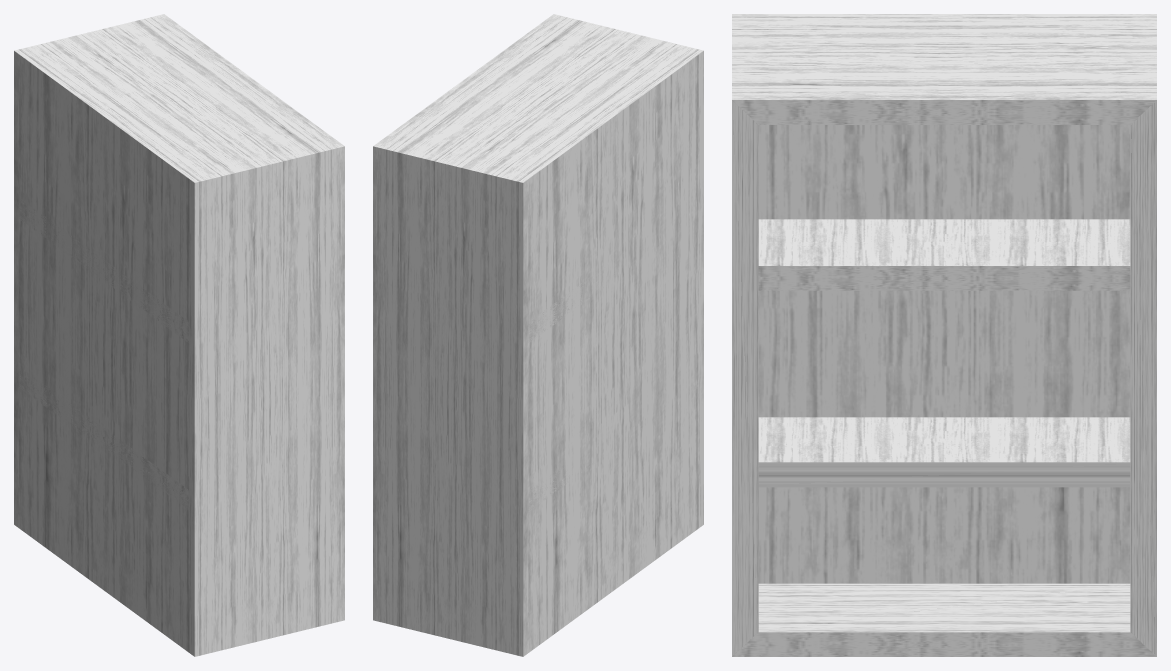
Rendered from Woodbookcase.fbx.
The picture shows the model from 3 angles, left to right: view 1: azimuth 30°, elevation 25°; view 2: azimuth 150°, elevation 25°; view 3: azimuth 270°, elevation 25°; orthographic projection. The views are drawn at different scales.
Parts seen in each view (by area): view 1: bokkshelf, bokkshelf2, bokkshelf1; view 2: bokkshelf, bokkshelf2; view 3: bokkshelf, bokkshelf2, bokkshelf1.
Part boxes in pixels (left/top/right/bottom): bokkshelf: left=14, top=14, right=344, bottom=656; bokkshelf2: left=19, top=198, right=188, bottom=342; bokkshelf1: left=19, top=367, right=188, bottom=508; bokkshelf: left=373, top=14, right=703, bottom=656; bokkshelf2: left=528, top=274, right=606, bottom=342; bokkshelf: left=732, top=14, right=1156, bottom=656; bokkshelf2: left=758, top=219, right=1130, bottom=290; bokkshelf1: left=758, top=417, right=1130, bottom=487.
Bounding box in the file's own units: 1.24 × 3.75 × 2.59.
